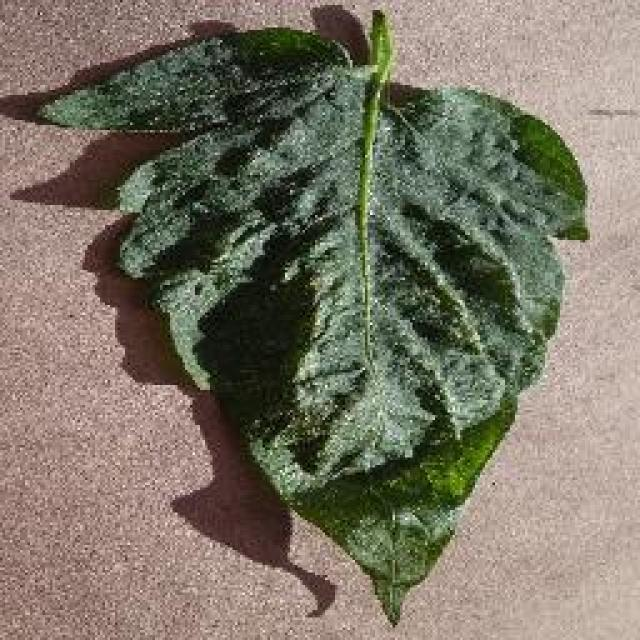Tomato___Spider_mites Two-spotted_spider_mite: (38, 10, 588, 620)
